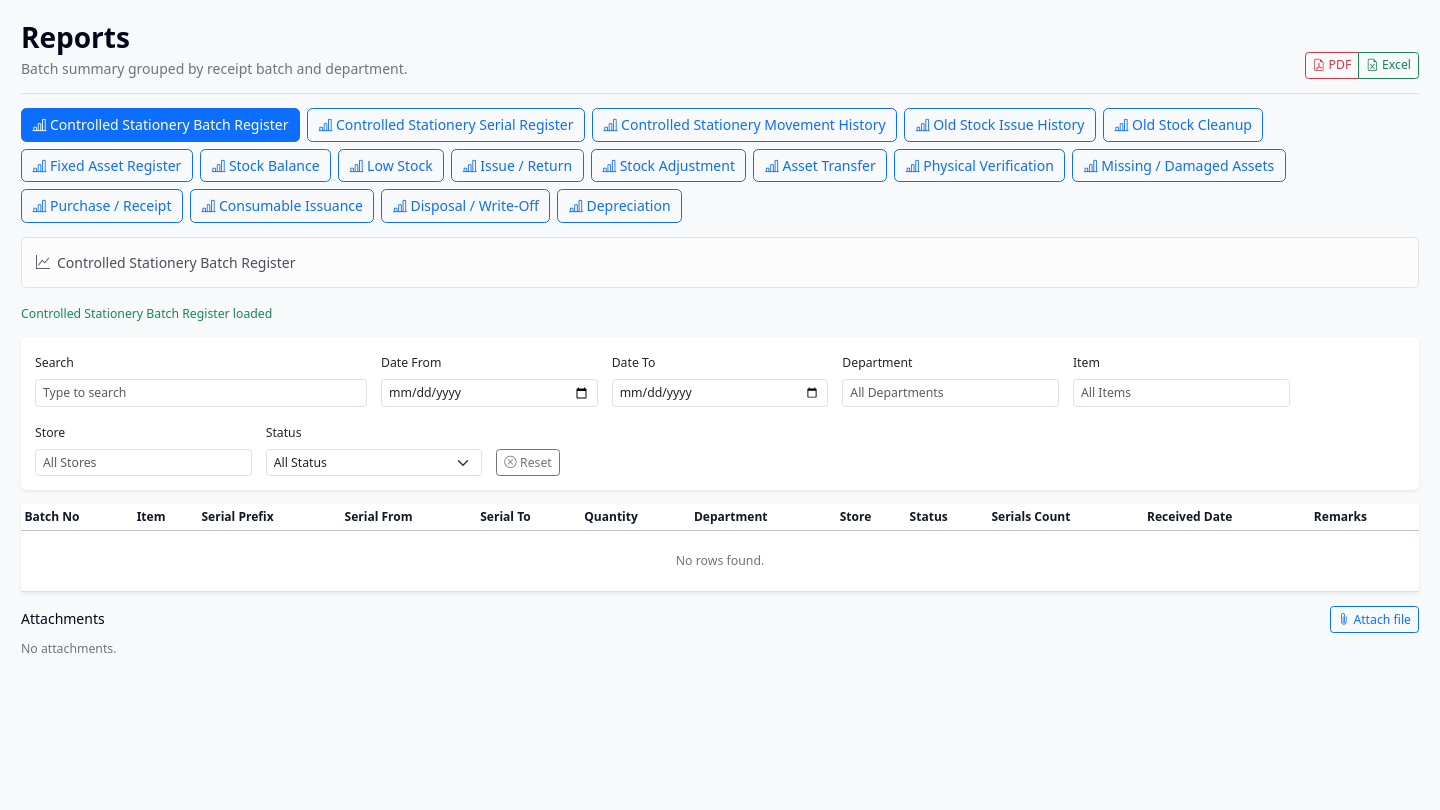
does not allow PDF export when no rows are loaded
The image size is (1440, 810).
Expected: the text "No rows found." is shown, top-left (21, 530), bottom-right (1419, 592)
Click the button "PDF": [1332, 65] box top-left (1305, 52), bottom-right (1359, 79)
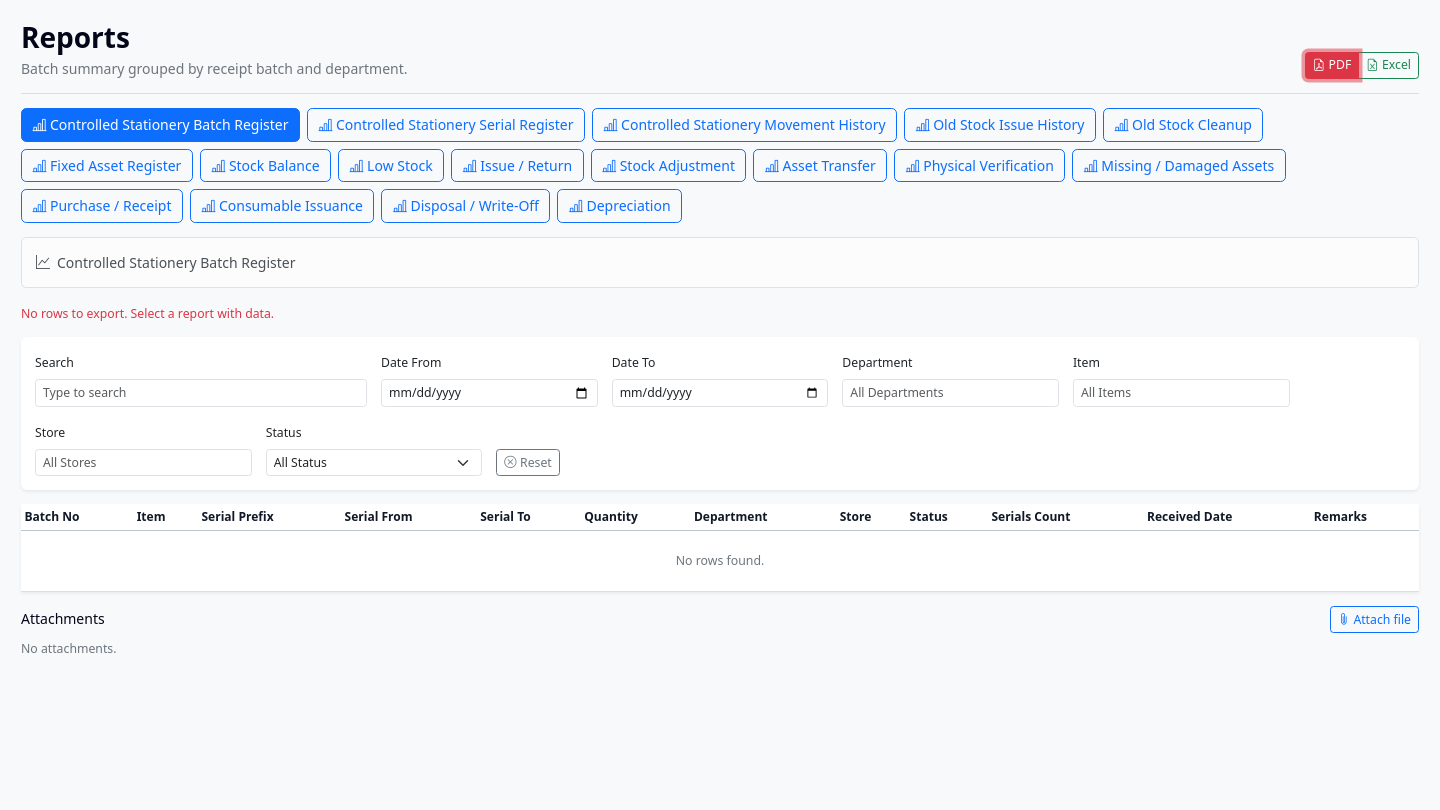
Now the text "No rows to export. Select a report with data." is shown, box top-left (21, 305), bottom-right (274, 322)
